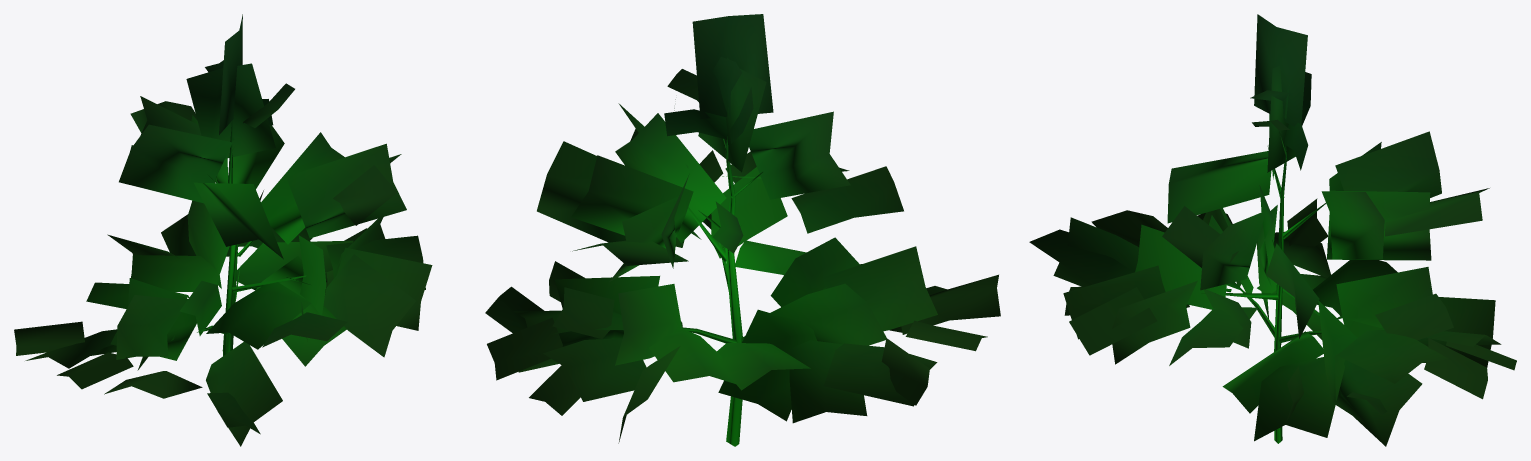
File: env_nature_foliage_smallbirch02_lod1.fbx
3 views of the same model, side by side, from view 1: azimuth 30°, elevation 25°; view 2: azimuth 150°, elevation 25°; view 3: azimuth 270°, elevation 25° (orthographic). The views are drawn at different scales.
Parts seen in each view (by area): view 1: env_nature_foliage_smallbirch02_lod1; view 2: env_nature_foliage_smallbirch02_lod1; view 3: env_nature_foliage_smallbirch02_lod1.
Part boxes in pixels (left/top/right/bottom): env_nature_foliage_smallbirch02_lod1: left=14, top=14, right=432, bottom=446; env_nature_foliage_smallbirch02_lod1: left=485, top=14, right=1000, bottom=446; env_nature_foliage_smallbirch02_lod1: left=1029, top=14, right=1516, bottom=446.
Bounding box in the file's own units: 22.4 × 22.21 × 23.45.
